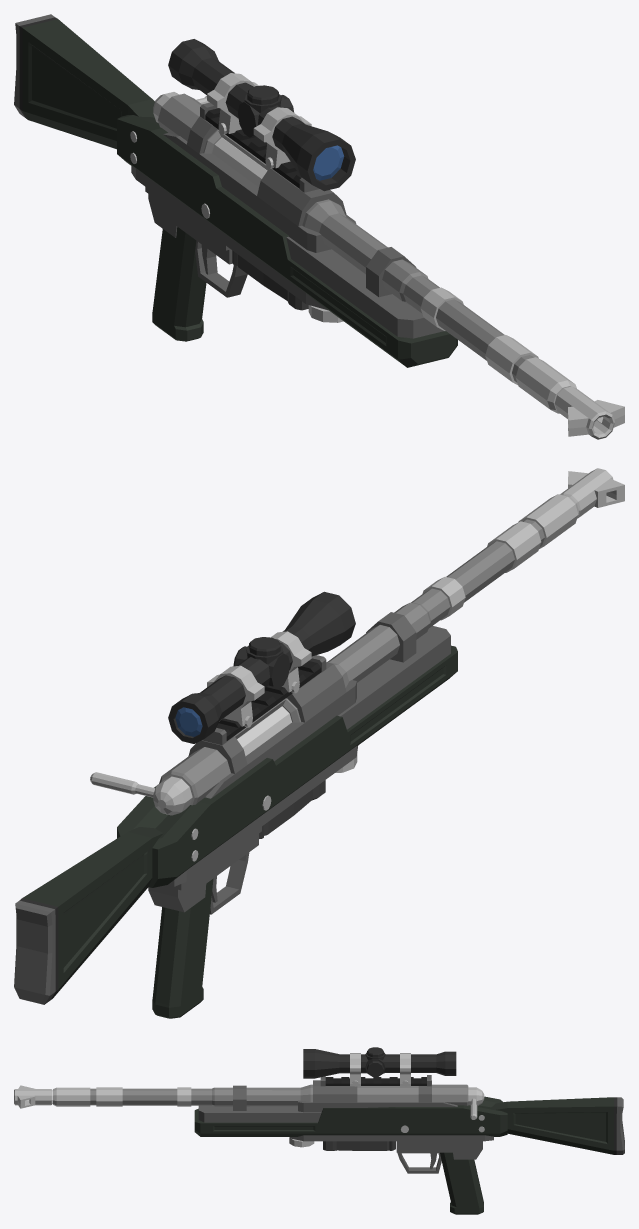
The model's file is AsimovSniperRifle.fbx.
3 renders of one model, top to bottom at view 1: azimuth 30°, elevation 25°; view 2: azimuth 150°, elevation 25°; view 3: azimuth 270°, elevation 25°, orthographic. The views are drawn at different scales.
Visible parts, largest first — view 1: AsimovSniperRifle; view 2: AsimovSniperRifle; view 3: AsimovSniperRifle.
Part boxes in pixels (x1,y1,x2,y2): AsimovSniperRifle: (14, 14, 624, 439); AsimovSniperRifle: (14, 468, 624, 1018); AsimovSniperRifle: (14, 1047, 624, 1214).
Bounding box in the file's own units: 35.62 × 92.63 × 319.
